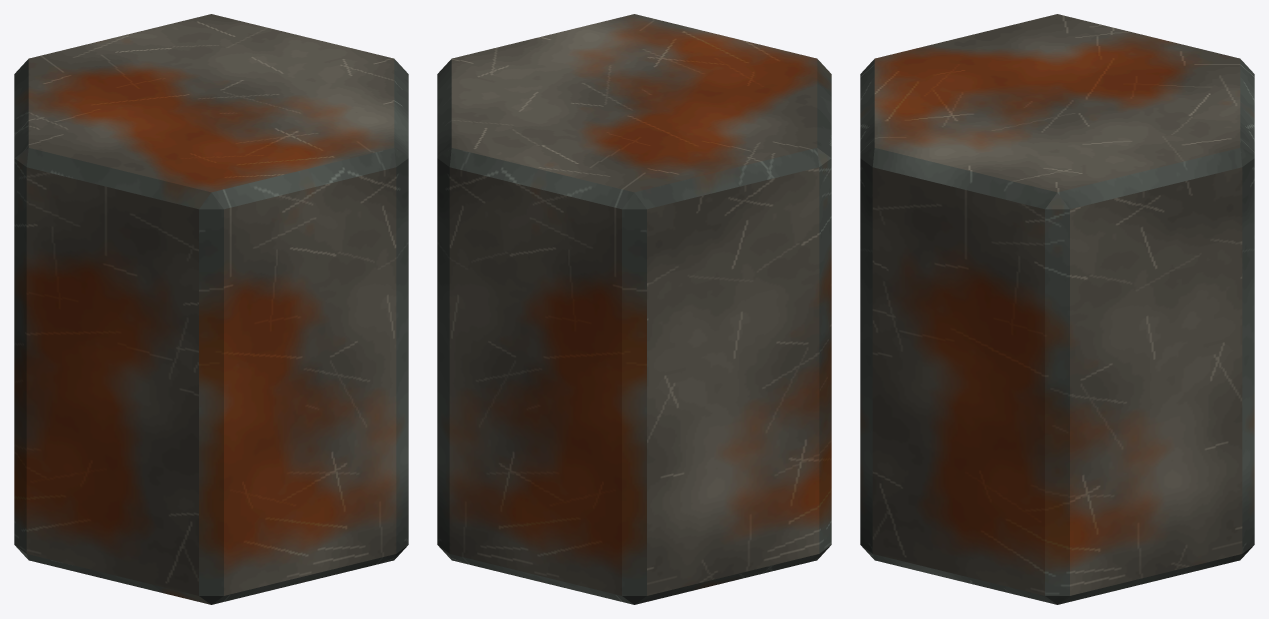
File: R4B_HexColumn_LOD1.glb
3 renders of one model, left to right at view 1: azimuth 30°, elevation 25°; view 2: azimuth 150°, elevation 25°; view 3: azimuth 270°, elevation 25°, orthographic.
Visible parts, largest first — view 1: R4B_HexColumn_LOD1; view 2: R4B_HexColumn_LOD1; view 3: R4B_HexColumn_LOD1.
Boxes of the visible parts, left/top/right/bottom form: R4B_HexColumn_LOD1: left=14, top=14, right=408, bottom=604; R4B_HexColumn_LOD1: left=437, top=14, right=831, bottom=604; R4B_HexColumn_LOD1: left=860, top=14, right=1254, bottom=604.
Bounding box in the file's own units: 0.5037 × 0.52 × 0.4503.
Materials: 2 (2 with a texture image).
